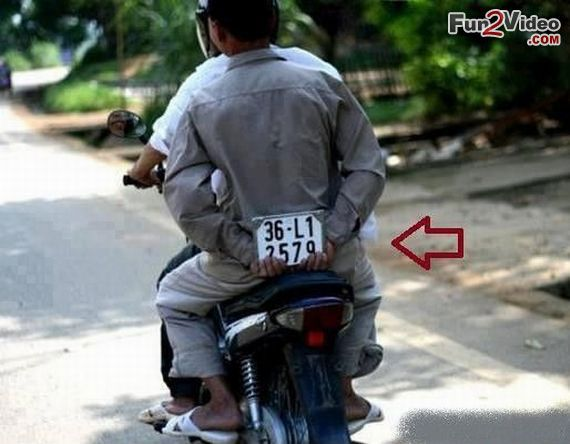number_plate: (258, 214, 325, 262)
